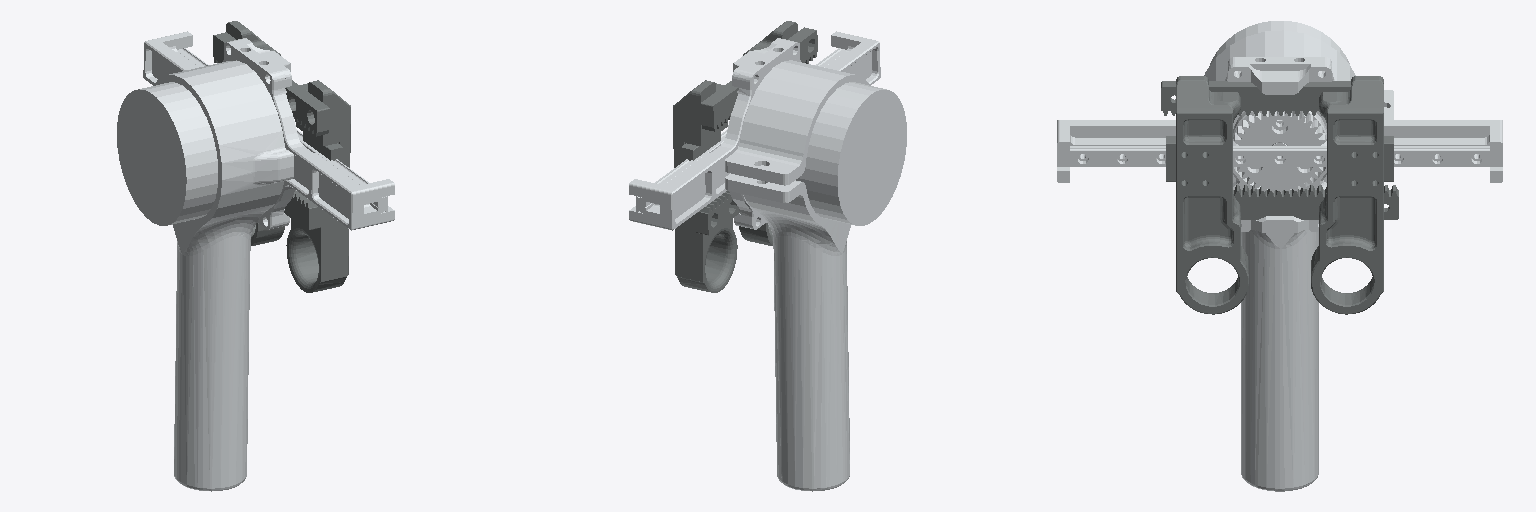
robot.urdf — y1_description:
<?xml version="1.0" encoding="utf-8"?>
<!-- This URDF was automatically created by SolidWorks to URDF Exporter! Originally created by [author] ([email redacted]) 
     Commit Version: 1.6.0-4-g7f85cfe  Build Version: 1.6.7995.38578
     For more information, please see http://wiki.ros.org/sw_urdf_exporter -->
<robot
  name="y1_description">
  <link name="world" />
  <joint name="fixed_base_joint" type="fixed">
      <parent link="world" />
      <child link="base_link" />
  </joint>
  <link
    name="base_link">
    <inertial>
      <origin
        xyz="-0.0059489 1.7482E-07 0.034801"
        rpy="0 0 0" />
      <mass
        value="0.71054" />
      <inertia
        ixx="0.00044366"
        ixy="6.2557E-08"
        ixz="9.5987E-07"
        iyy="0.00044108"
        iyz="-9.9726E-09"
        izz="0.00050821" />
    </inertial>
    <visual>
      <origin
        xyz="0 0 0"
        rpy="0 0 0" />
      <geometry>
        <mesh
          filename="package://y1_description/meshes1/base_link.STL" />
      </geometry>
      <material
        name="">
        <color
          rgba="1 1 1 1" />
      </material>
    </visual>
    <collision>
      <origin
        xyz="0 0 0"
        rpy="0 0 0" />
      <geometry>
        <mesh
          filename="package://y1_description/meshes1/base_link.STL" />
      </geometry>
    </collision>
  </link>
  <link
    name="link1">
    <inertial>
      <origin
        xyz="0.000681166801672367 -0.000462329144560384 0.0457748924814261"
        rpy="0 0 0" />
      <mass
        value="0.465086237348674" />
      <inertia
        ixx="0.000229226849289478"
        ixy="6.51443398202369E-09"
        ixz="4.13823216866437E-08"
        iyy="0.000349392243512778"
        iyz="4.09909327546524E-06"
        izz="0.000228246849171497" />
    </inertial>
    <visual>
      <origin
        xyz="0 0 0"
        rpy="0 0 0" />
      <geometry>
        <mesh
          filename="package://y1_description/meshes1/link1.STL" />
      </geometry>
      <material
        name="">
        <color
          rgba="0.898039215686275 0.917647058823529 0.929411764705882 1" />
      </material>
    </visual>
    <collision>
      <origin
        xyz="0 0 0"
        rpy="0 0 0" />
      <geometry>
        <mesh
          filename="package://y1_description/meshes1/link1.STL" />
      </geometry>
    </collision>
  </link>
  <joint
    name="joint1"
    type="revolute">
    <origin
      xyz="0 0 0.06675"
      rpy="0 0 0" />
    <parent
      link="base_link" />
    <child
      link="link1" />
    <axis
      xyz="0 0 1" />
    <limit
      lower="-3.0"
      upper="3.0"
      effort="30"
      velocity="5" />
  </joint>
  <link
    name="link2">
    <inertial>
      <origin
        xyz="-0.18883 -0.001037 -0.00065223"
        rpy="0 0 0" />
      <mass
        value="1.0085" />
      <inertia
        ixx="0.00041079"
        ixy="-8.4022E-05"
        ixz="8.5441E-06"
        iyy="0.0060417"
        iyz="-2.4438E-07"
        izz="0.0061104" />
    </inertial>
    <visual>
      <origin
        xyz="0 0 0"
        rpy="0 0 0" />
      <geometry>
        <mesh
          filename="package://y1_description/meshes1/link2.STL" />
      </geometry>
      <material
        name="">
        <color
          rgba="0.89804 0.91765 0.92941 1" />
      </material>
    </visual>
    <collision>
      <origin
        xyz="0 0 0"
        rpy="0 0 0" />
      <geometry>
        <mesh
          filename="package://y1_description/meshes1/link2.STL" />
      </geometry>
    </collision>
  </link>
  <joint
    name="joint2"
    type="revolute">
    <origin
      xyz="0.00075 0 0.055"
      rpy="1.5707963267949 0 0" />
    <parent
      link="link1" />
    <child
      link="link2" />
    <axis
      xyz="0 0 1" />
    <limit
      lower="-3.5"
      upper="0.2"
      effort="100"
      velocity="5" />
  </joint>
  <link
    name="link3">
    <inertial>
      <origin
        xyz="0.133032369447597 0.0530016054431511 0.000290607418650856"
        rpy="0 0 0" />
      <mass
        value="0.839664048567877" />
      <inertia
        ixx="0.000602602150087719"
        ixy="0.000475019647948953"
        ixz="4.78547835409594E-06"
        iyy="0.00179992027506774"
        iyz="2.9017894831277E-06"
        izz="0.00208247690030755" />
    </inertial>
    <visual>
      <origin
        xyz="0 0 0"
        rpy="0 0 0" />
      <geometry>
        <mesh
          filename="package://y1_description/meshes1/link3.STL" />
      </geometry>
      <material
        name="">
        <color
          rgba="0.898039215686275 0.917647058823529 0.929411764705882 1" />
      </material>
    </visual>
    <collision>
      <origin
        xyz="0 0 0"
        rpy="0 0 0" />
      <geometry>
        <mesh
          filename="package://y1_description/meshes1/link3.STL" />
      </geometry>
    </collision>
  </link>
  <joint
    name="joint3"
    type="revolute">
    <origin
      xyz="-0.28 0 0"
      rpy="0 0 0" />
    <parent
      link="link2" />
    <child
      link="link3" />
    <axis
      xyz="0 0 1" />
    <limit
      lower="-0.2"
      upper="4.1"
      effort="30"
      velocity="5" />
  </joint>
  <link
    name="link4">
    <inertial>
      <origin
        xyz="0.0676553454608046 0.0601804606336393 0.00493164046961679"
        rpy="0 0 0" />
      <mass
        value="0.45519280728148" />
      <inertia
        ixx="0.000175905701610462"
        ixy="2.09881793084199E-05"
        ixz="-5.70112881813548E-06"
        iyy="0.00021185619989683"
        iyz="-5.28404240592637E-06"
        izz="0.000207766320080551" />
    </inertial>
    <visual>
      <origin
        xyz="0 0 0"
        rpy="0 0 0" />
      <geometry>
        <mesh
          filename="package://y1_description/meshes1/link4.STL" />
      </geometry>
      <material
        name="">
        <color
          rgba="0.898039215686275 0.917647058823529 0.929411764705882 1" />
      </material>
    </visual>
    <collision>
      <origin
        xyz="0 0 0"
        rpy="0 0 0" />
      <geometry>
        <mesh
          filename="package://y1_description/meshes1/link4.STL" />
      </geometry>
    </collision>
  </link>
  <joint
    name="joint4"
    type="revolute">
    <origin
      xyz="0.215000000191949 0.062999999344955 0"
      rpy="0 0 0" />
    <parent
      link="link3" />
    <child
      link="link4" />
    <axis
      xyz="0 0 1" />
    <limit
      lower="-2.5"
      upper="1.7"
      effort="10"
      velocity="20" />
  </joint>
  <link
    name="link5">
    <inertial>
      <origin
        xyz="0.00184718198779937 1.71555473194154E-05 0.0401130289643779"
        rpy="0 0 0" />
      <mass
        value="0.37350857138172" />
      <inertia
        ixx="0.000164420724368751"
        ixy="9.01113714088929E-08"
        ixz="8.61462336637628E-06"
        iyy="0.000150227049138266"
        iyz="7.29000317164614E-07"
        izz="0.000141162755688236" />
    </inertial>
    <visual>
      <origin
        xyz="0 0 0"
        rpy="0 0 0" />
      <geometry>
        <mesh
          filename="package://y1_description/meshes1/link5.STL" />
      </geometry>
      <material
        name="">
        <color
          rgba="0.898039215686275 0.917647058823529 0.929411764705882 1" />
      </material>
    </visual>
    <collision>
      <origin
        xyz="0 0 0"
        rpy="0 0 0" />
      <geometry>
        <mesh
          filename="package://y1_description/meshes1/link5.STL" />
      </geometry>
    </collision>
  </link>
  <joint
    name="joint5"
    type="revolute">
    <origin
      xyz="0.080817 0.05072 0.00025"
      rpy="1.5708 0 0" />
    <parent
      link="link4" />
    <child
      link="link5" />
    <axis
      xyz="0 0 1" />
    <limit
      lower="-2.0"
      upper="2.0"
      effort="10"
      velocity="20" />
  </joint>
  <link
    name="link6">
    <inertial>
      <origin
        xyz="-7.49599778135379E-06 -0.00013005136298912 0.0107241456109823"
        rpy="0 0 0" />
      <mass
        value="0.0710864913917462" />
      <inertia
        ixx="1.6401347920533E-05"
        ixy="-1.49553772726508E-07"
        ixz="2.14734308108841E-07"
        iyy="1.63719812629545E-05"
        iyz="1.0859635466048E-08"
        izz="3.09205907254189E-05" />
    </inertial>
    <visual>
      <origin
        xyz="0 0 0"
        rpy="0 0 0" />
      <geometry>
        <mesh
          filename="package://y1_description/meshes1/link6.STL" />
      </geometry>
      <material
        name="">
        <color
          rgba="0.898039215686275 0.917647058823529 0.929411764705882 1" />
      </material>
    </visual>
    <collision>
      <origin
        xyz="0 0 0"
        rpy="0 0 0" />
      <geometry>
        <mesh
          filename="package://y1_description/meshes1/link6.STL" />
      </geometry>
    </collision>
  </link>
  <joint
    name="joint6"
    type="revolute">
    <origin
      xyz="0.0227968089529965 0 0.0443684065693784"
      rpy="0 1.5707963267949 0" />
    <parent
      link="link5" />
    <child
      link="link6" />
    <axis
      xyz="0 0 1" />
    <limit
      lower="-3.0"
      upper="3.0"
      effort="10"
      velocity="20" />
  </joint>
  <link
    name="gripper_base">
    <inertial>
      <origin
        xyz="-0.0070018 -0.00021279 -0.024017"
        rpy="0 0 0" />
      <mass
        value="0.53662" />
      <inertia
        ixx="0.0003749"
        ixy="-6.5474E-06"
        ixz="3.5335E-07"
        iyy="0.00031567"
        iyz="2.189E-07"
        izz="0.00057117" />
    </inertial>
    <visual>
      <origin
        xyz="0 0 0"
        rpy="0 0 0" />
      <geometry>
        <mesh
          filename="package://y1_description/meshes1/gripper_base.STL" />
      </geometry>
      <material
        name="">
        <color
          rgba="0.89804 0.91765 0.92941 1" />
      </material>
    </visual>
    <collision>
      <origin
        xyz="0 0 0"
        rpy="0 0 0" />
      <geometry>
        <mesh
          filename="package://y1_description/meshes1/gripper_base.STL" />
      </geometry>
    </collision>
  </link>
  <joint
    name="gripper_base"
    type="fixed">
    <origin
      xyz="-0.0012063 0 0.07579"
      rpy="0 -0.015915 0" />
    <parent
      link="link6" />
    <child
      link="gripper_base" />
    <axis
      xyz="0 0 0" />
  </joint>
  <link
    name="link7">
    <inertial>
      <origin
        xyz="0.00137734521982649 -0.0160275575881895 0.0661099306355941"
        rpy="0 0 0" />
      <mass
        value="0.0741661405892337" />
      <inertia
        ixx="3.88752657264539E-05"
        ixy="1.32850187305371E-07"
        ixz="-3.67469395999967E-08"
        iyy="2.63418313382058E-05"
        iyz="-4.72259315690137E-07"
        izz="1.33842647152742E-05" />
    </inertial>
    <visual>
      <origin
        xyz="0 0 0"
        rpy="0 0 0" />
      <geometry>
        <mesh
          filename="package://y1_description/meshes1/link7.STL" />
      </geometry>
      <material
        name="">
        <color
          rgba="0.529411764705882 0.549019607843137 0.549019607843137 1" />
      </material>
    </visual>
    <collision>
      <origin
        xyz="0 0 0"
        rpy="0 0 0" />
      <geometry>
        <mesh
          filename="package://y1_description/meshes1/link7.STL" />
      </geometry>
    </collision>
  </link>
  <joint
    name="joint7"
    type="prismatic">
    <origin
      xyz="0 -0.080000000000001 0"
      rpy="-1.5707963267949 -1.55488167514075 0" />
    <parent
      link="gripper_base" />
    <child
      link="link7" />
    <axis
      xyz="0 0 -1" />
    <limit
      lower="0"
      upper="0.04"
      effort="10"
      velocity="20" />
  </joint>
  <link
    name="link8">
    <inertial>
      <origin
        xyz="0.00178013018239997 0.00931906665748052 -0.0661099334401437"
        rpy="0 0 0" />
      <mass
        value="0.0741661418284612" />
      <inertia
        ixx="3.88752162584699E-05"
        ixy="1.34546291239751E-07"
        ixz="3.57644557360502E-08"
        iyy="2.6341885231074E-05"
        iyz="4.10525306363255E-07"
        izz="1.33842688469812E-05" />
    </inertial>
    <visual>
      <origin
        xyz="0 0 0"
        rpy="0 0 0" />
      <geometry>
        <mesh
          filename="package://y1_description/meshes1/link8.STL" />
      </geometry>
      <material
        name="">
        <color
          rgba="0.529411764705882 0.549019607843137 0.549019607843137 1" />
      </material>
    </visual>
    <collision>
      <origin
        xyz="0 0 0"
        rpy="0 0 0" />
      <geometry>
        <mesh
          filename="package://y1_description/meshes1/link8.STL" />
      </geometry>
    </collision>
  </link>
  <joint
    name="joint8"
    type="prismatic">
    <origin
      xyz="0 0.079999999999999 0"
      rpy="-1.5707963267949 -1.55488167514075 0" />
    <parent
      link="gripper_base" />
    <child
      link="link8" />
    <axis
      xyz="0 0 1" />
    <mimic joint="joint7" multiplier="1.0" offset="0.0"/>
    <limit
      lower="0"
      upper="0.04"
      effort="10"
      velocity="20" />
  </joint>
</robot>

--- What the picture shows (computed from the rendered views, not written in the file) ---
The picture shows the robot from 3 angles, left to right: view 1: azimuth 30°, elevation 25°; view 2: azimuth 150°, elevation 25°; view 3: azimuth 270°, elevation 25°; orthographic projection.
Model y1_description with 11 links and 10 joints (6 revolute, 2 prismatic, 2 fixed), rooted at world, posed all joints at 0.
Links seen in each view (by area): view 1: gripper_base, link8, link7; view 2: gripper_base, link7, link8; view 3: gripper_base, link8, link7.
Link boxes in pixels (left/top/right/bottom): gripper_base: left=117, top=31, right=394, bottom=491; link8: left=213, top=32, right=350, bottom=292; link7: left=226, top=21, right=321, bottom=245; gripper_base: left=629, top=31, right=906, bottom=491; link7: left=673, top=80, right=739, bottom=292; link8: left=701, top=21, right=817, bottom=245; gripper_base: left=1057, top=21, right=1502, bottom=491; link8: left=1161, top=76, right=1350, bottom=314; link7: left=1233, top=76, right=1398, bottom=314.
Bounding box of the posed robot: 0.0718 × 0.17 × 0.1849 m (x, y, z).
3 mesh visuals loaded from 10 distinct referenced files (3 binary STL); not drawn: 7 (reference not matched to a file when rendering).